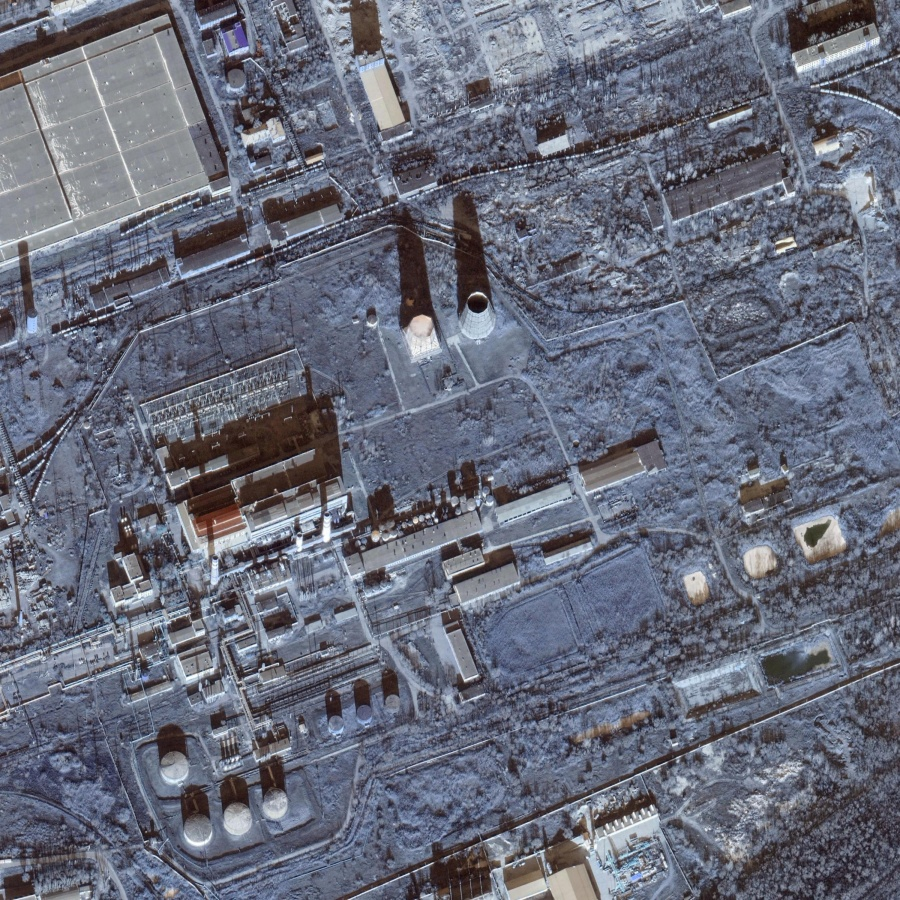PowerPlant: (139, 263, 539, 851)
